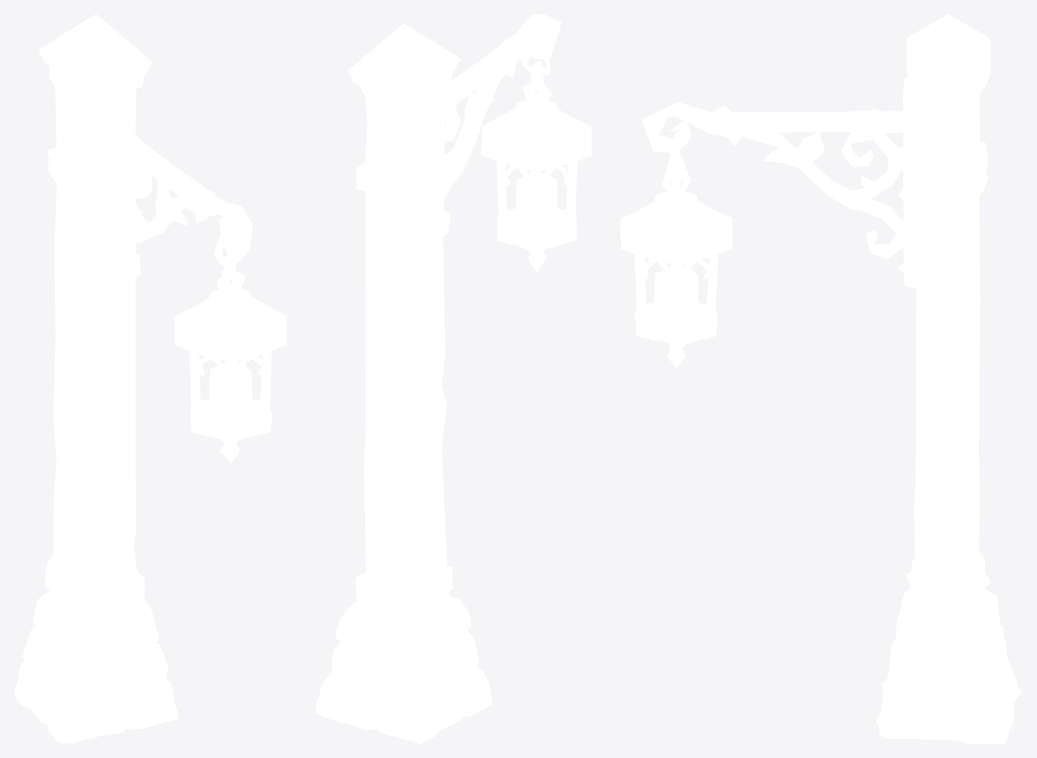
File: lamp_post.glb
3 views of the same model, side by side, from view 1: azimuth 30°, elevation 25°; view 2: azimuth 150°, elevation 25°; view 3: azimuth 270°, elevation 25° (orthographic). The views are drawn at different scales.
Parts seen in each view (by area): view 1: lamp_post; view 2: lamp_post; view 3: lamp_post.
Part boxes in pixels (x1,y1,x2,y2): lamp_post: [14, 14, 286, 743]; lamp_post: [315, 14, 591, 743]; lamp_post: [620, 14, 1022, 743].
Bounding box in the file's own units: 0.6139 × 3.2 × 1.66.
Materials: 1 (1 with a texture image).
